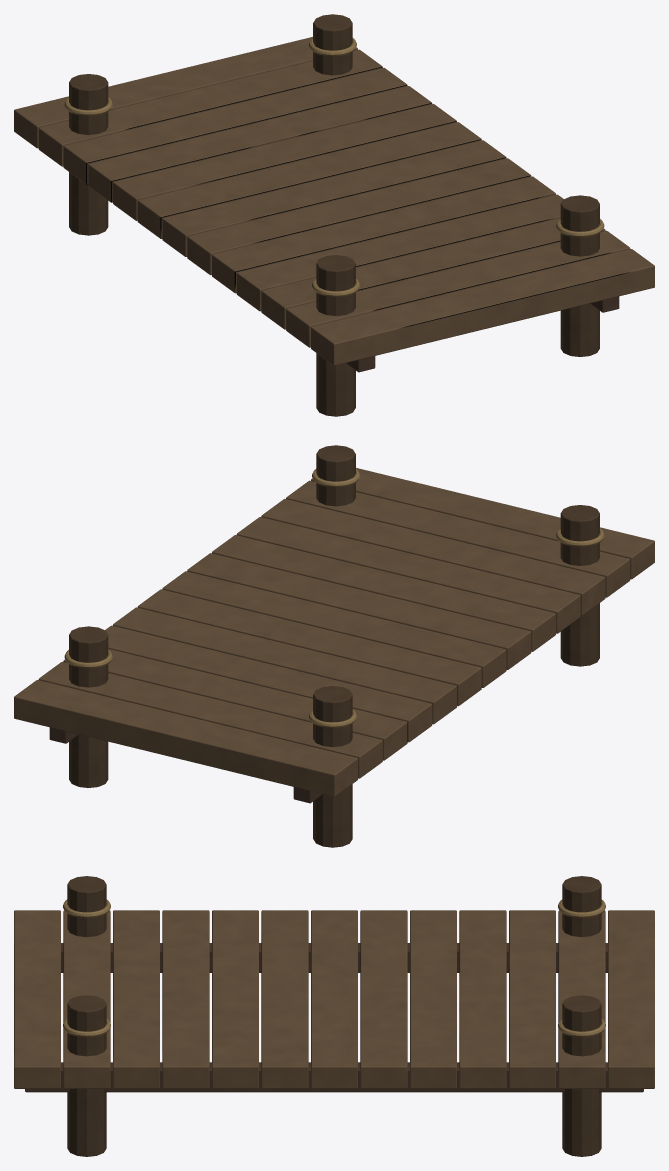
The model's file is Dock_Section.fbx.
3 views of the same model, one above another, from view 1: azimuth 30°, elevation 25°; view 2: azimuth 150°, elevation 25°; view 3: azimuth 270°, elevation 25° (orthographic).
Visible parts, largest first — view 1: Dock_Section.001; view 2: Dock_Section.001; view 3: Dock_Section.001.
Part boxes in pixels (bbox=[...]): Dock_Section.001: bbox=[14, 14, 654, 416]; Dock_Section.001: bbox=[14, 445, 654, 847]; Dock_Section.001: bbox=[14, 876, 654, 1156].
Bounding box in the file's own units: 3 × 1.3 × 5.18.
